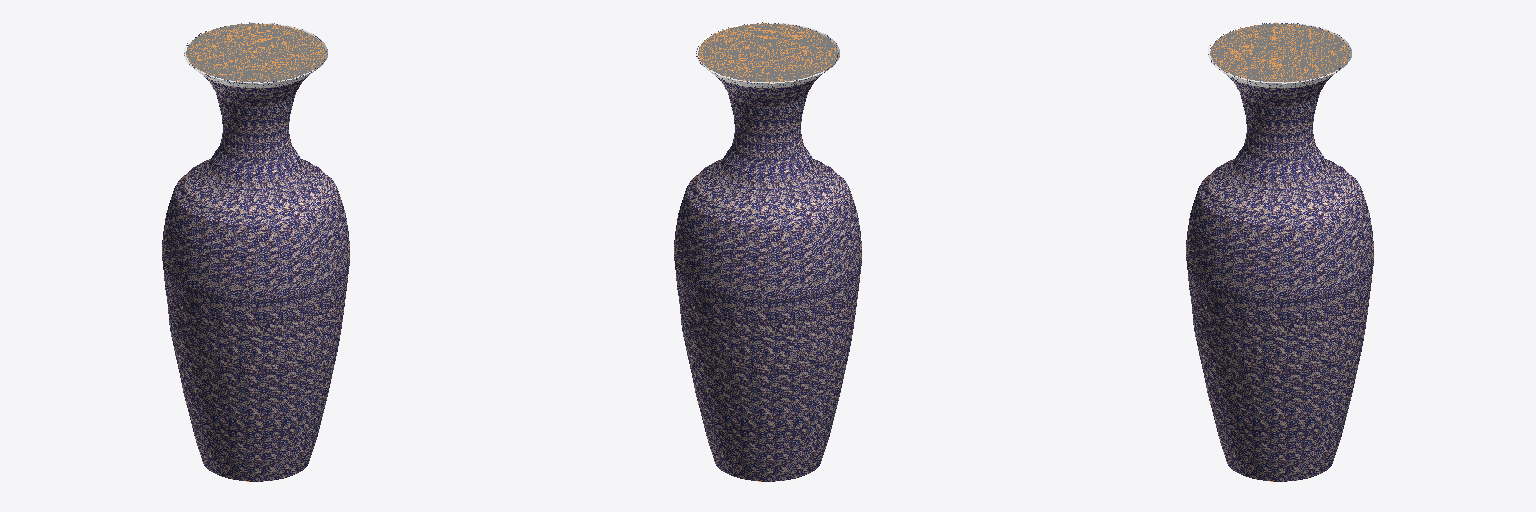
3 views of the same model, side by side, from view 1: azimuth 30°, elevation 25°; view 2: azimuth 150°, elevation 25°; view 3: azimuth 270°, elevation 25° (orthographic).
Visible parts, largest first — view 1: mesh34_mesh34-geometry, mesh6_mesh6-geometry, mesh5_mesh5-geometry, mesh3_mesh3-geometry, mesh4_mesh4-geometry, mesh30_mesh30-geometry, mesh15_mesh15-geometry, mesh24_mesh24-geometry, mesh14_mesh14-geometry, mesh22_mesh22-geometry, mesh23_mesh23-geometry, mesh25_mesh25-geometry (+18 smaller); view 2: mesh34_mesh34-geometry, mesh6_mesh6-geometry, mesh5_mesh5-geometry, mesh3_mesh3-geometry, mesh4_mesh4-geometry, mesh30_mesh30-geometry, mesh15_mesh15-geometry, mesh24_mesh24-geometry, mesh14_mesh14-geometry, mesh22_mesh22-geometry, mesh23_mesh23-geometry, mesh25_mesh25-geometry (+18 smaller); view 3: mesh34_mesh34-geometry, mesh6_mesh6-geometry, mesh5_mesh5-geometry, mesh3_mesh3-geometry, mesh4_mesh4-geometry, mesh30_mesh30-geometry, mesh15_mesh15-geometry, mesh24_mesh24-geometry, mesh14_mesh14-geometry, mesh22_mesh22-geometry, mesh23_mesh23-geometry, mesh25_mesh25-geometry (+18 smaller).
Part boxes in pixels (x1,y1,x2,y2): mesh34_mesh34-geometry: (186, 23, 325, 82); mesh6_mesh6-geometry: (166, 188, 345, 251); mesh5_mesh5-geometry: (163, 215, 348, 275); mesh3_mesh3-geometry: (162, 239, 349, 297); mesh4_mesh4-geometry: (162, 260, 349, 318); mesh30_mesh30-geometry: (165, 287, 346, 340); mesh15_mesh15-geometry: (167, 303, 344, 361); mesh24_mesh24-geometry: (170, 330, 340, 381); mesh14_mesh14-geometry: (189, 412, 323, 461); mesh22_mesh22-geometry: (175, 353, 336, 401); mesh23_mesh23-geometry: (180, 373, 332, 422); mesh25_mesh25-geometry: (197, 442, 315, 481); mesh34_mesh34-geometry: (698, 23, 837, 82); mesh6_mesh6-geometry: (678, 188, 857, 251); mesh5_mesh5-geometry: (675, 215, 860, 275); mesh3_mesh3-geometry: (674, 239, 861, 297); mesh4_mesh4-geometry: (674, 260, 861, 318); mesh30_mesh30-geometry: (677, 287, 858, 340); mesh15_mesh15-geometry: (679, 303, 856, 361); mesh24_mesh24-geometry: (682, 330, 852, 381); mesh14_mesh14-geometry: (701, 412, 835, 461); mesh22_mesh22-geometry: (687, 353, 848, 401); mesh23_mesh23-geometry: (692, 373, 844, 422); mesh25_mesh25-geometry: (709, 442, 827, 481); mesh34_mesh34-geometry: (1210, 23, 1349, 82); mesh6_mesh6-geometry: (1190, 188, 1369, 251); mesh5_mesh5-geometry: (1187, 215, 1372, 275); mesh3_mesh3-geometry: (1186, 239, 1373, 297); mesh4_mesh4-geometry: (1186, 260, 1373, 318); mesh30_mesh30-geometry: (1189, 287, 1370, 340); mesh15_mesh15-geometry: (1191, 303, 1368, 361); mesh24_mesh24-geometry: (1194, 330, 1364, 381); mesh14_mesh14-geometry: (1213, 412, 1347, 461); mesh22_mesh22-geometry: (1199, 353, 1360, 401); mesh23_mesh23-geometry: (1204, 373, 1356, 422); mesh25_mesh25-geometry: (1221, 442, 1339, 481).
Size of the model in its own units: 0.3613 by 0.8596 by 0.3613.
Materials: 4 (1 with a texture image).